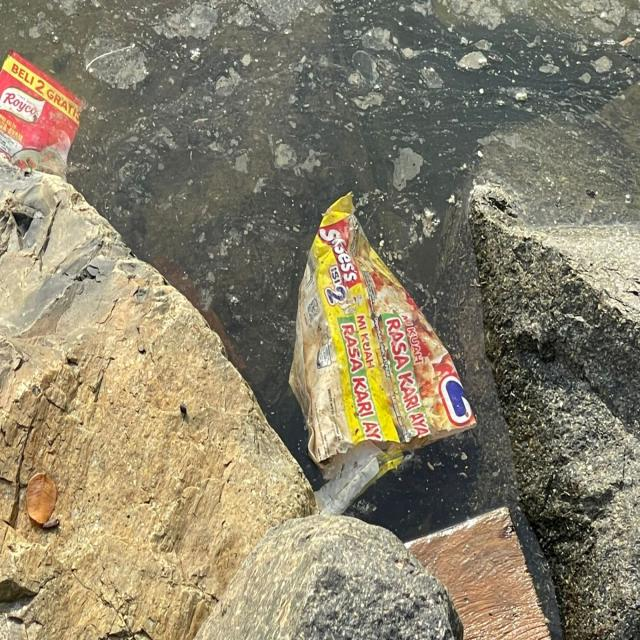Bungkus Makanan: (289, 185, 482, 494), (3, 50, 86, 189)
